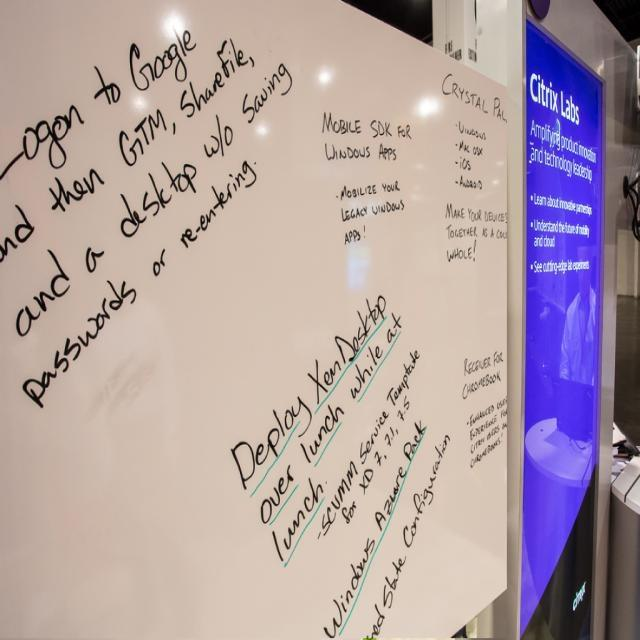Whiteboard: (0, 0, 510, 639)
